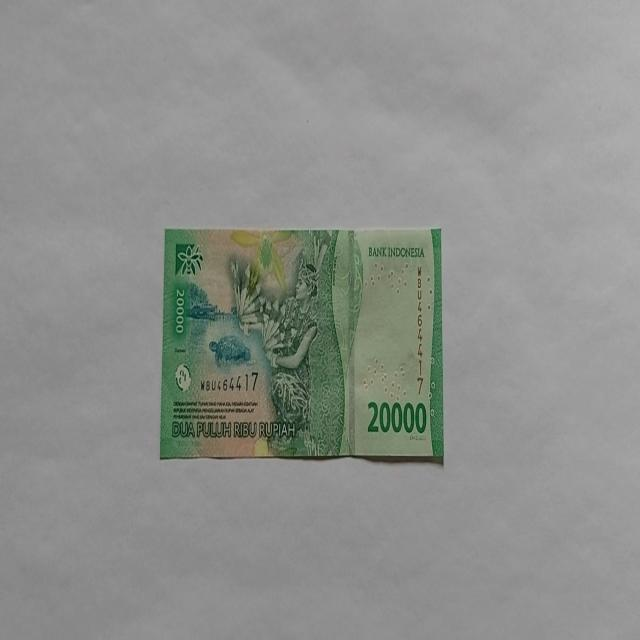dua puluh ribu rupiah: (160, 225, 444, 464)
